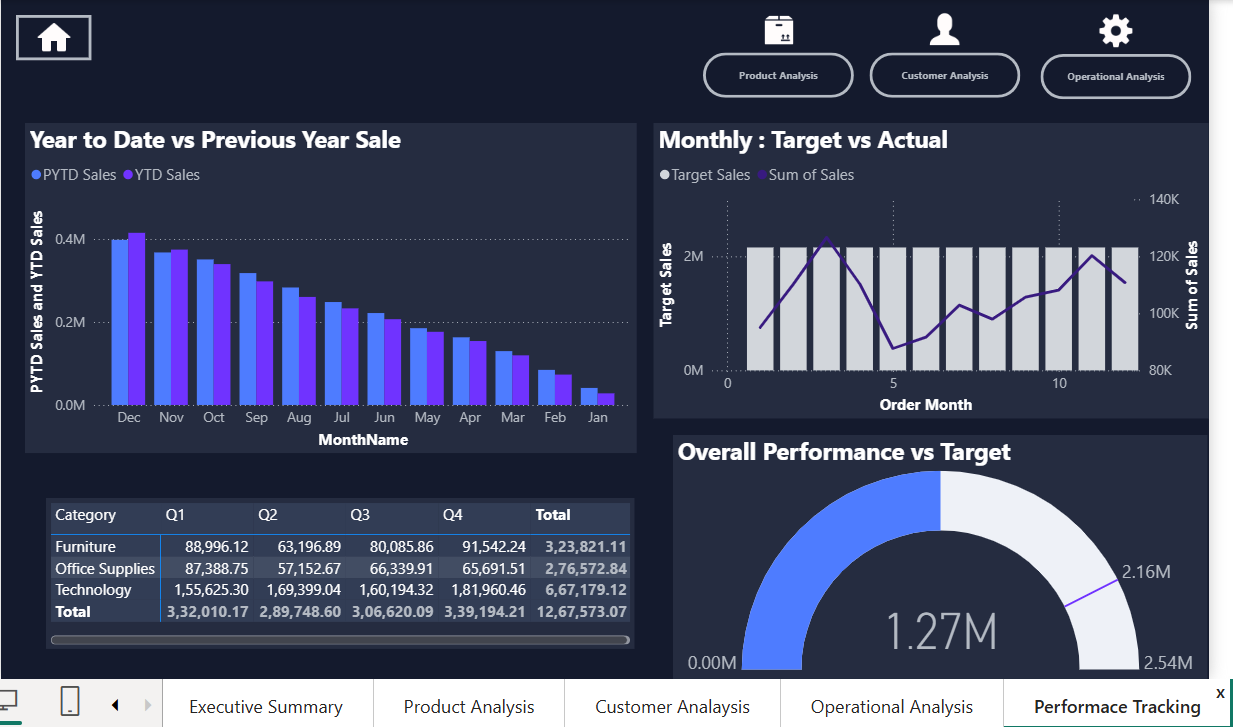

This screenshot's page, from the dashboard's own definition file:
{"tool":"powerbi","page":{"name":"Performace Tracking","canvas":[1280,720],"ordinal":4},"visuals":[{"type":"gauge","title":"Overall Performance vs Target","fields":{"Y":["Sum(Orders.Sales)"],"TargetValue":["Sum(Targets.Target Sales)"]},"box":[713.3,461.7,566.7,258.3],"z":0},{"type":"lineClusteredColumnComboChart","title":"Monthly : Target vs Actual","fields":{"Y":["Sum(Targets.Target Sales)"],"Category":["Orders.Order Month"],"Y2":["Sum(Orders.Sales)"]},"box":[691.7,130,588.3,313.3],"z":1000},{"type":"pivotTable","fields":{"Rows":["Products.Category"],"Columns":["Calendar.Quarter Name"],"Values":["Sum(Orders.Sales)"]},"box":[48,528,624,160],"z":2000},{"type":"clusteredColumnChart","title":"Year to Date vs Previous Year Sale","fields":{"Category":["Calendar.MonthName"],"Y":["Calendar.PYTD Sales","Calendar.YTD Sales"]},"box":[25,130,648.3,350],"z":3000},{"type":"image","box":[16,16,80,48],"z":4000},{"type":"actionButton","box":[16,16,80,48],"z":5000},{"type":"actionButton","box":[745.1,55.7,160,48],"z":6000},{"type":"actionButton","box":[921.1,55.7,160,48],"z":7000},{"type":"actionButton","box":[1101.9,57.3,160,48],"z":8000},{"type":"image","box":[1157.9,6.1,48,52.8],"z":10000},{"type":"image","box":[975.5,6.1,51.2,49.6],"z":12000},{"type":"image","box":[801.1,7.7,46.4,48],"z":13000}]}

Visuals, with their boxes on the page's 1280x720 design canvas (x1, y1, x2, y2). These are canvas units, not pixel positions in the 1233x727 screenshot, which may show the page scaled, cropped or inside an application window:
"Overall Performance vs Target" gauge: l=713, t=462, r=1280, b=720
"Monthly : Target vs Actual" lineClusteredColumnComboChart: l=692, t=130, r=1280, b=443
pivotTable - Products.Category x Calendar.Quarter Name: l=48, t=528, r=672, b=688
"Year to Date vs Previous Year Sale" clusteredColumnChart: l=25, t=130, r=673, b=480
image: l=16, t=16, r=96, b=64
actionButton: l=16, t=16, r=96, b=64
actionButton: l=745, t=56, r=905, b=104
actionButton: l=921, t=56, r=1081, b=104
actionButton: l=1102, t=57, r=1262, b=105
image: l=1158, t=6, r=1206, b=59
image: l=976, t=6, r=1027, b=56
image: l=801, t=8, r=848, b=56
